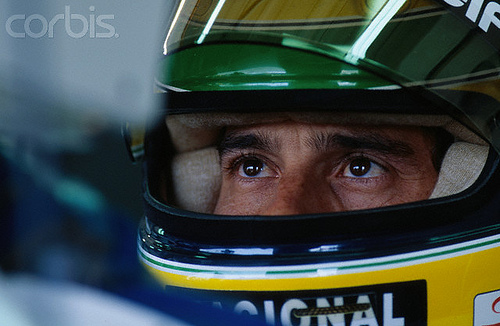helmet: (128, 5, 500, 319)
